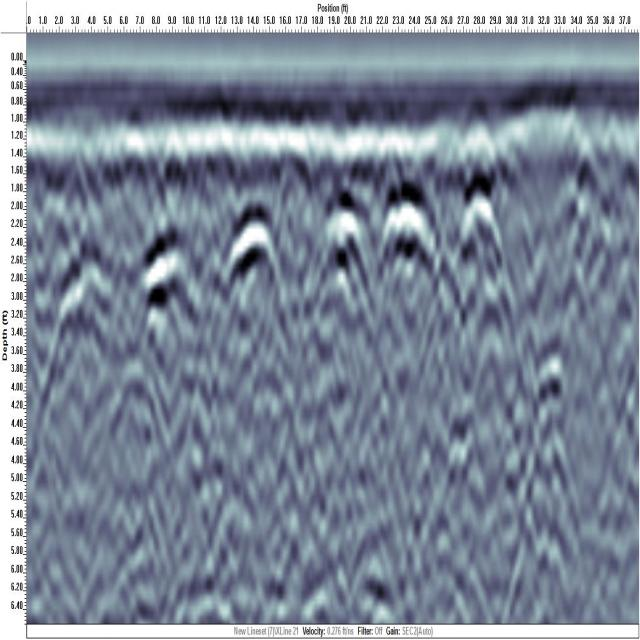hyperbola: (214, 195, 287, 318)
